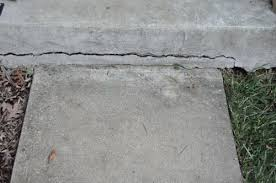crack: (0, 49, 236, 63)
